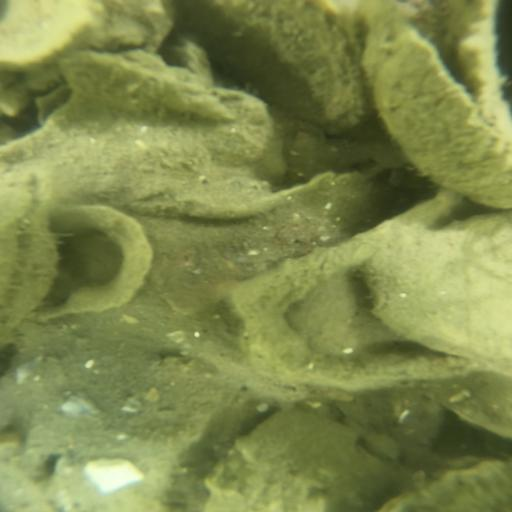Oyster-Closed: (10, 94, 279, 217), (368, 14, 512, 205), (178, 1, 360, 132), (370, 217, 511, 375), (208, 407, 380, 507), (64, 52, 232, 119), (45, 441, 178, 512), (381, 459, 512, 511), (433, 372, 512, 443)
Oyster-Open: (1, 174, 53, 343)
